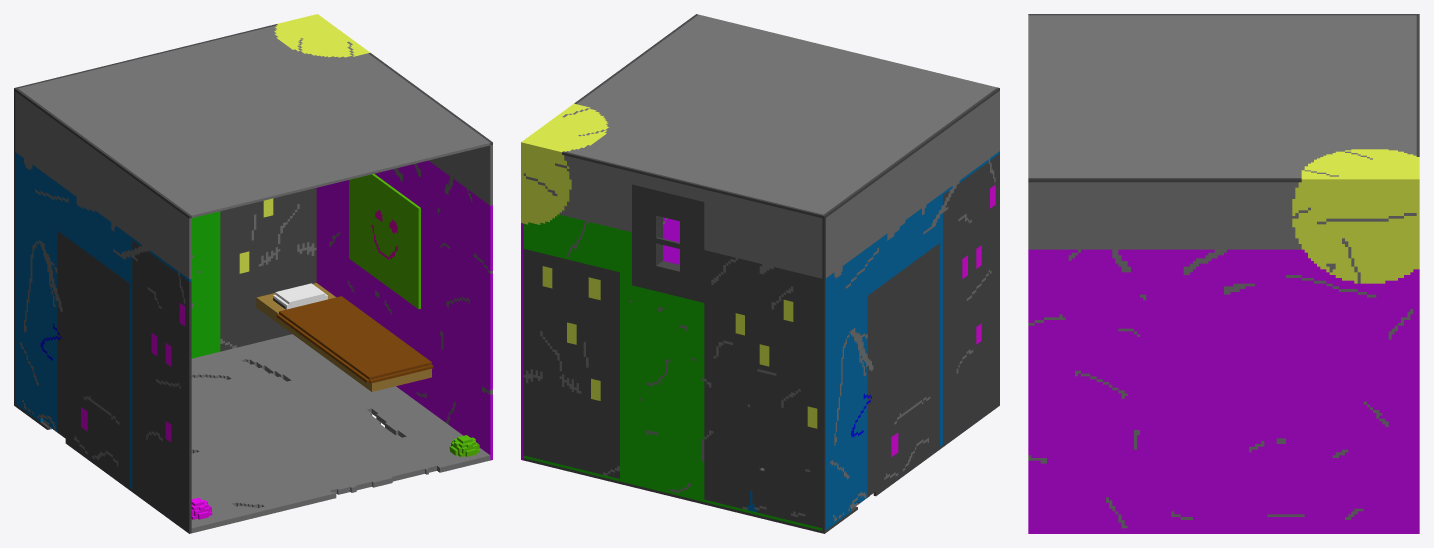
The model's file is EvaJailCell.fbx.
3 views of the same model, side by side, from view 1: azimuth 30°, elevation 25°; view 2: azimuth 150°, elevation 25°; view 3: azimuth 270°, elevation 25° (orthographic). The views are drawn at different scales.
Parts seen in each view (by area): view 1: EvaJailCell:Mesh; view 2: EvaJailCell:Mesh; view 3: EvaJailCell:Mesh.
Part boxes in pixels (x1,y1,x2,y2): EvaJailCell:Mesh: (14,14,492,533); EvaJailCell:Mesh: (521,14,999,533); EvaJailCell:Mesh: (1028,14,1419,533).
Bounding box in the file's own units: 126 × 126 × 126.
1 material, 1 textured.
